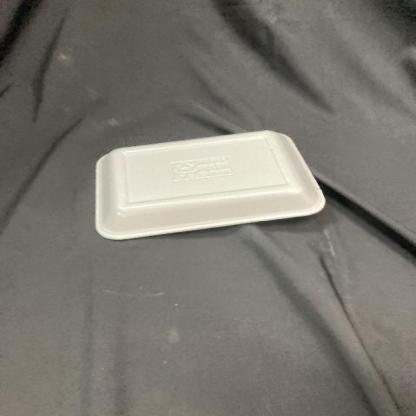Glass Cup: (94, 128, 328, 241), (95, 130, 325, 240)
